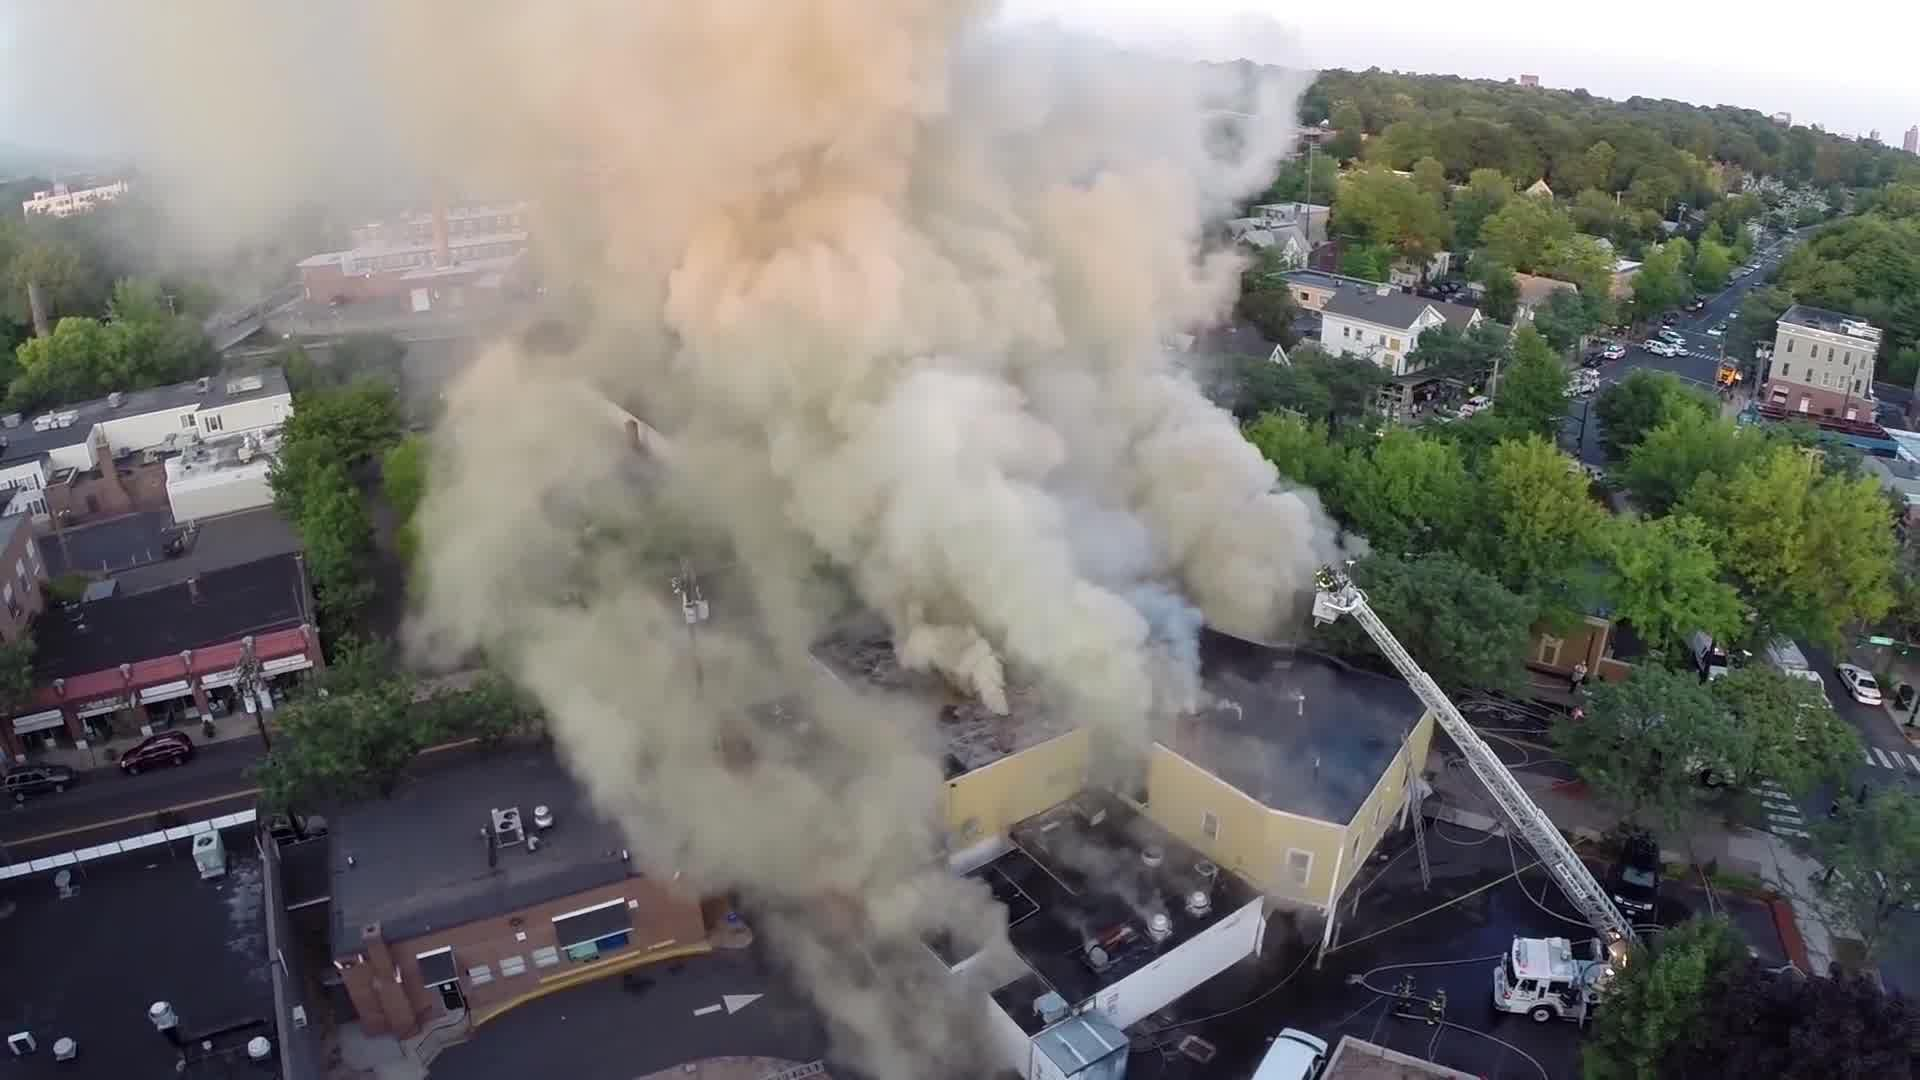smoke: (473, 21, 1236, 690), (566, 696, 922, 890)
